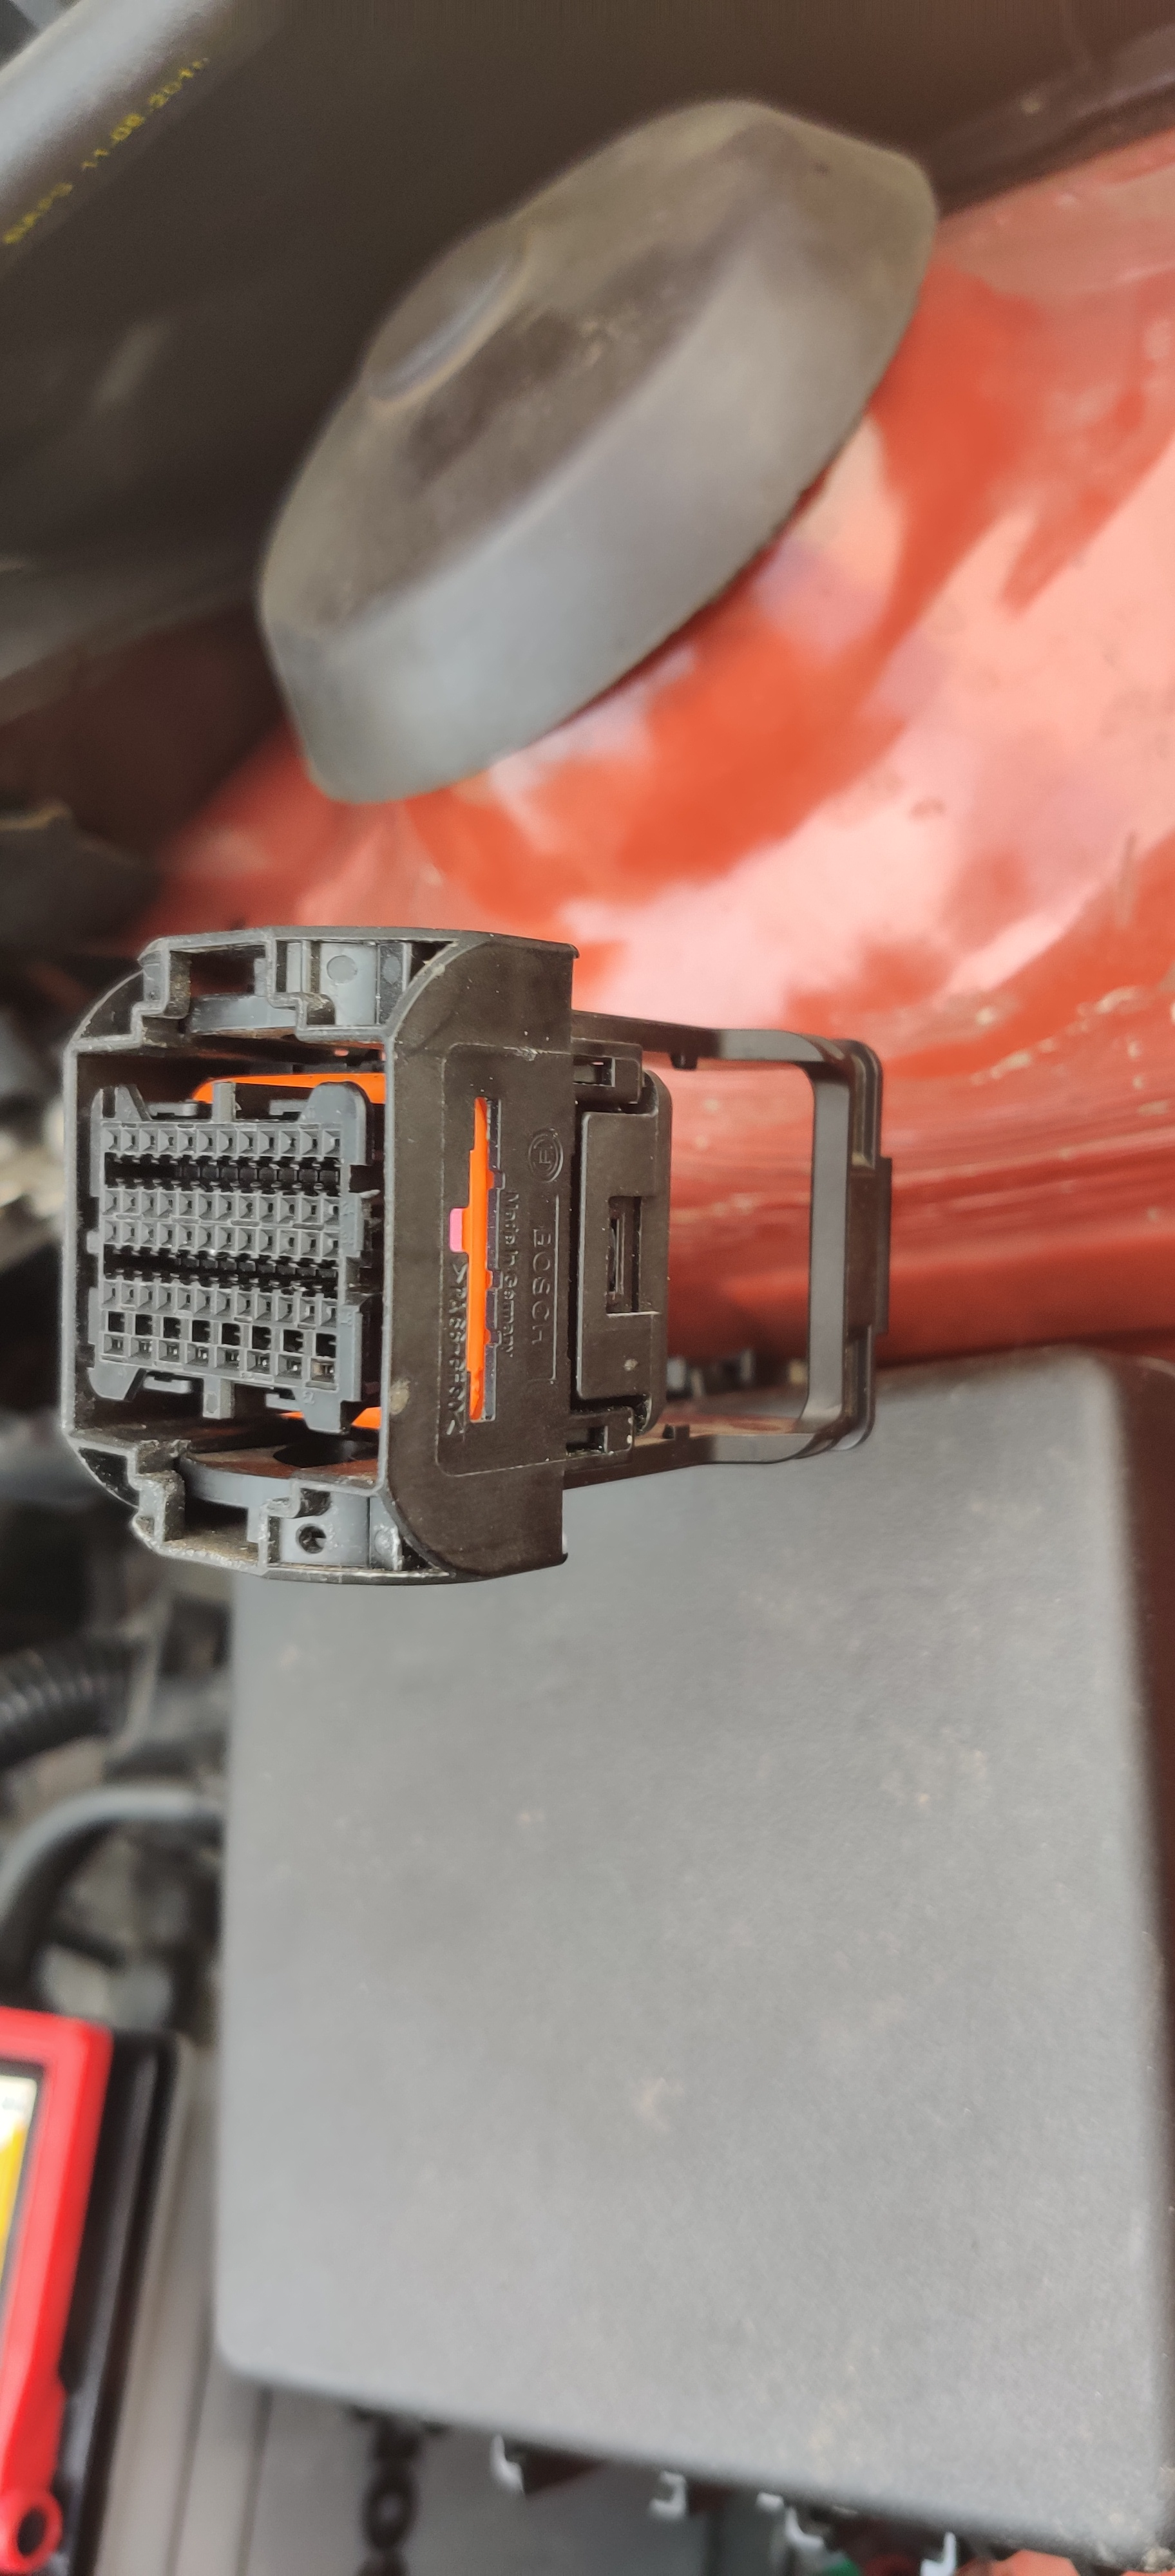connector: (43, 902, 712, 1681)
